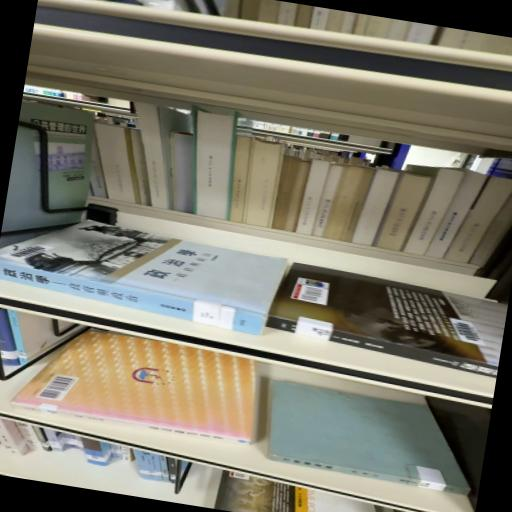flat: (1, 220, 287, 335), (267, 263, 508, 378), (12, 331, 257, 444), (268, 381, 470, 496)
